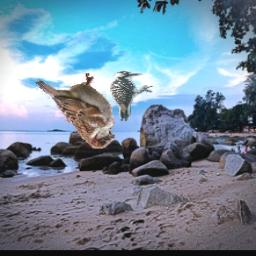Sparrow: (36, 74, 116, 149)
Woodpecker: (109, 70, 154, 121)
